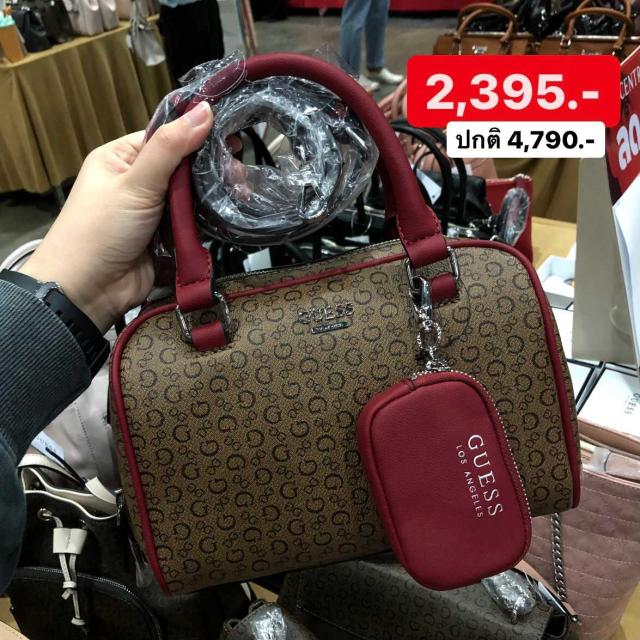Handbag: (92, 225, 595, 595)
